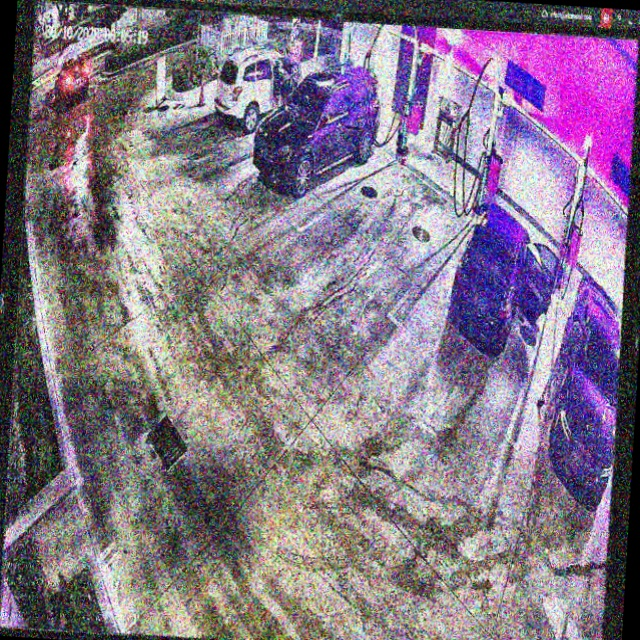Car: (447, 200, 565, 362), (252, 61, 383, 202)
